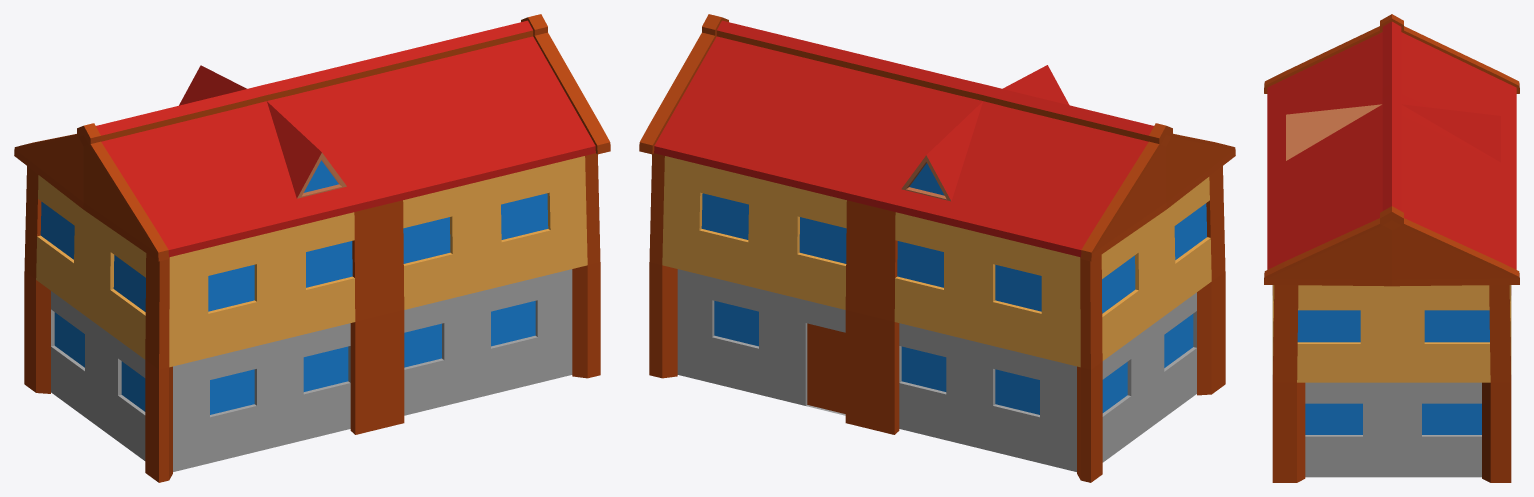
The model's file is Fantasy_House_Inn.fbx.
3 renders of one model, left to right at view 1: azimuth 30°, elevation 25°; view 2: azimuth 150°, elevation 25°; view 3: azimuth 270°, elevation 25°, orthographic. The views are drawn at different scales.
Visible parts, largest first — view 1: Inn; view 2: Inn; view 3: Inn.
Boxes of the visible parts, x1,y1,x2,y2 form: Inn: (14, 14, 610, 482); Inn: (639, 14, 1235, 482); Inn: (1264, 14, 1519, 482).
Size of the model in its own units: 306 by 167 by 198.
